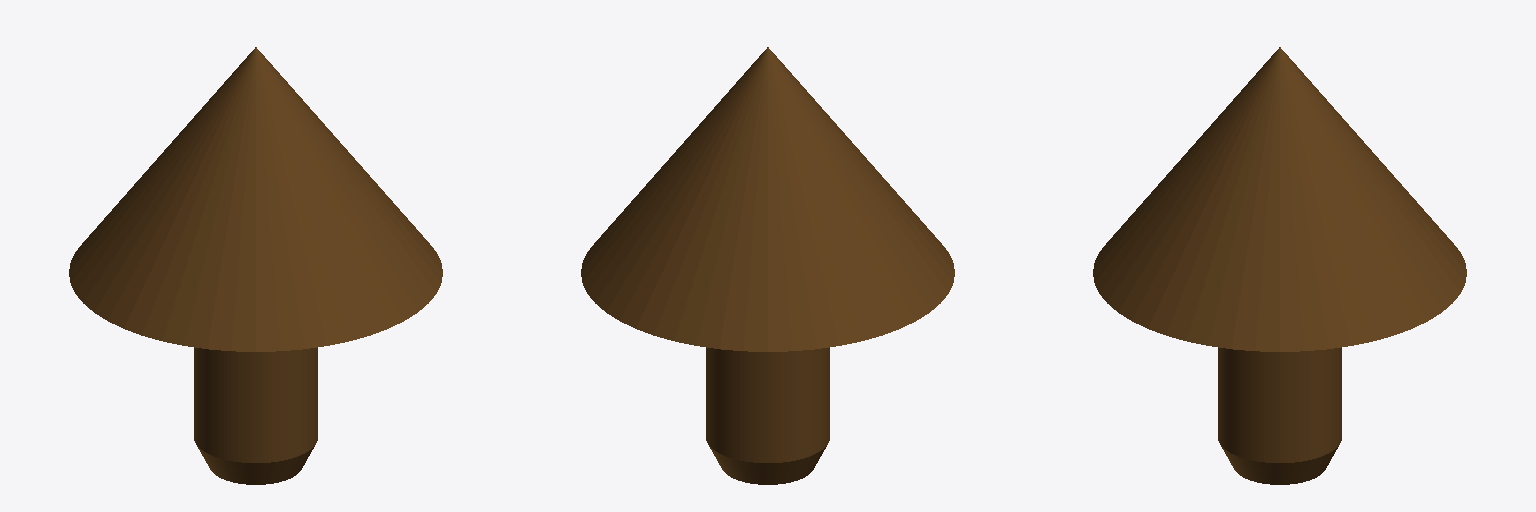
The model's file is arrowbrown.obj.
The picture shows the model from 3 angles: view 1: azimuth 30°, elevation 25°; view 2: azimuth 150°, elevation 25°; view 3: azimuth 270°, elevation 25°; orthographic projection.
Parts seen in each view (by area): view 1: obj1; view 2: obj1; view 3: obj1.
Boxes of the visible parts, x1,y1,x2,y2 form: obj1: [69, 47, 442, 484]; obj1: [581, 47, 954, 484]; obj1: [1093, 47, 1466, 484].
Size of the model in its own units: 0.03 by 0.037 by 0.03.